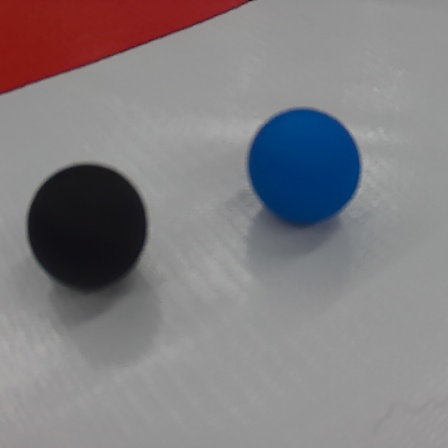black: (28, 160, 163, 300)
blue: (246, 106, 363, 224)
red_base: (0, 0, 267, 97)
